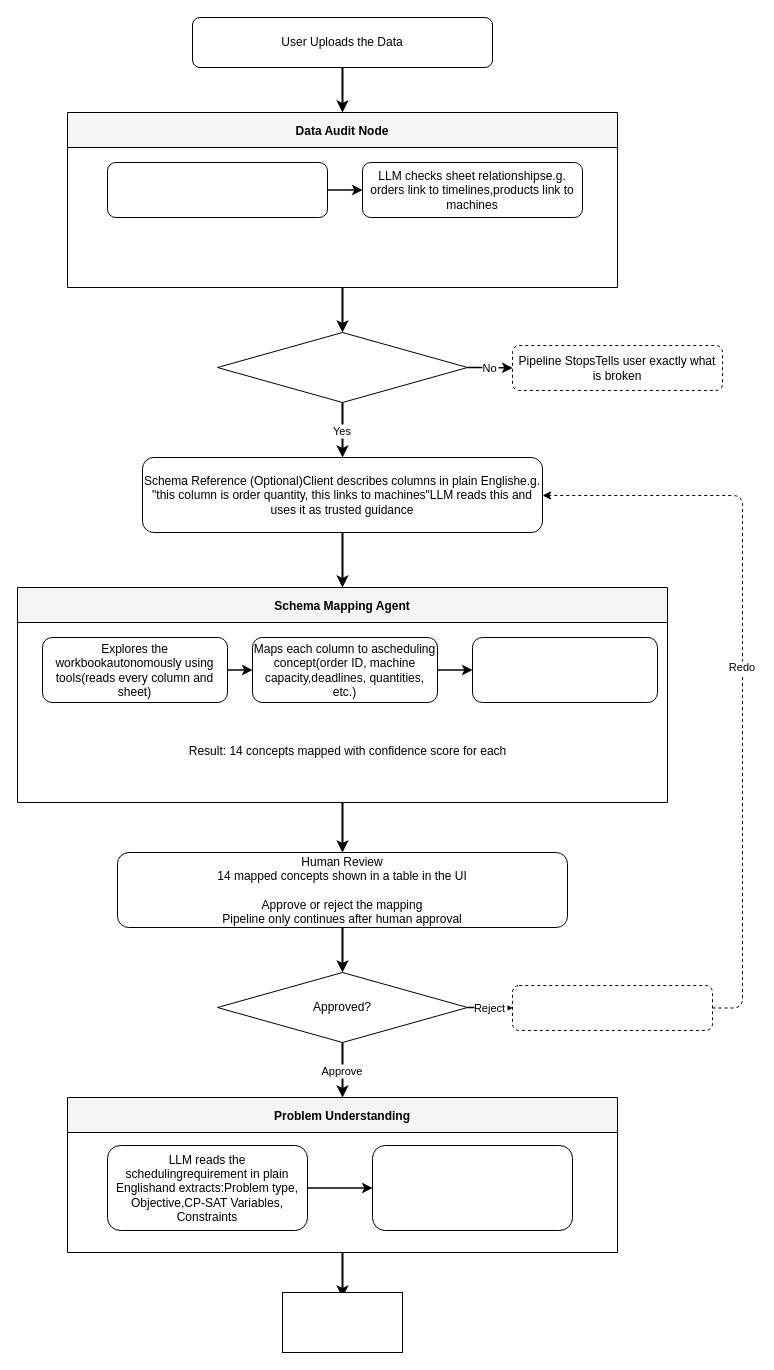
Image size: 774x1370. Some labels were removed from this diagram. The box of each missing label's shape, as (x1, y1, x2, y2) in pixels:
Audit Passed?: (216, 332, 468, 402)
Final CheckConfirms all required datais present and valid forthe CP-SAT solver: (372, 1144, 572, 1230)
Python scans the full fileChecks: empty sheets, missing values, duplicate rows: (106, 162, 328, 218)
READY for CP-SAT solver: (282, 1292, 402, 1352)
RejectedUser refines schema referenceand re-runs mapping: (512, 984, 712, 1030)
Verifies foreign keyrelationships between sheetsand submits the full mapping: (472, 636, 658, 702)
